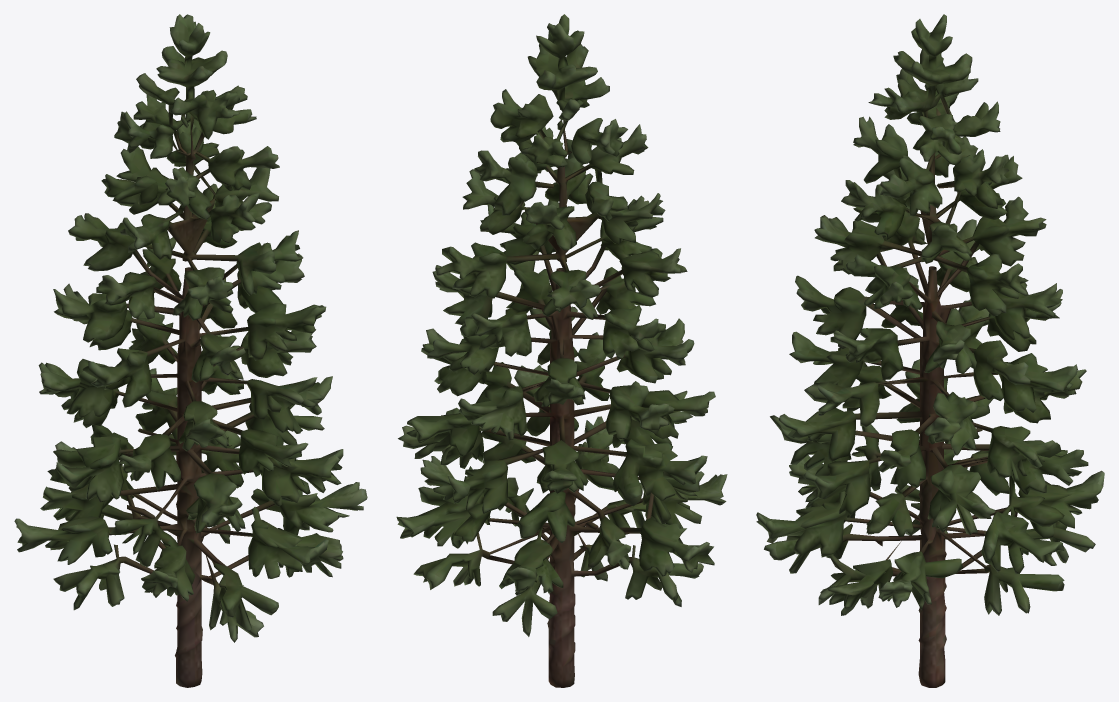
Rendered from conifera.glb.
3 renders of one model, left to right at view 1: azimuth 30°, elevation 25°; view 2: azimuth 150°, elevation 25°; view 3: azimuth 270°, elevation 25°, orthographic.
Parts seen in each view (by area): view 1: tripo_node_d571ac2c-4af5-4d3c-9257-b72344f09447; view 2: tripo_node_d571ac2c-4af5-4d3c-9257-b72344f09447; view 3: tripo_node_d571ac2c-4af5-4d3c-9257-b72344f09447.
Boxes of the visible parts, x1,y1,x2,y2 form: tripo_node_d571ac2c-4af5-4d3c-9257-b72344f09447: [14, 14, 367, 687]; tripo_node_d571ac2c-4af5-4d3c-9257-b72344f09447: [396, 14, 727, 687]; tripo_node_d571ac2c-4af5-4d3c-9257-b72344f09447: [756, 14, 1104, 687].
Bounding box in the file's own units: 0.4834 × 0.9687 × 0.4579.
Materials: 1 (1 with a texture image).
